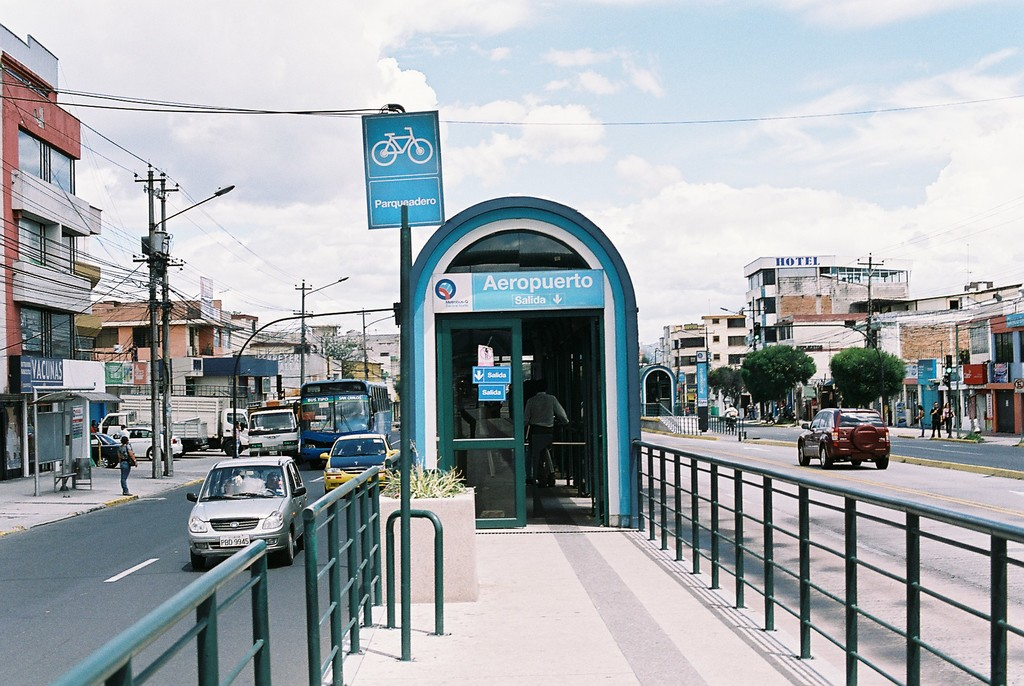Car: (168, 461, 311, 567), (792, 406, 889, 474), (318, 433, 401, 500), (120, 425, 187, 461), (86, 429, 136, 471)
